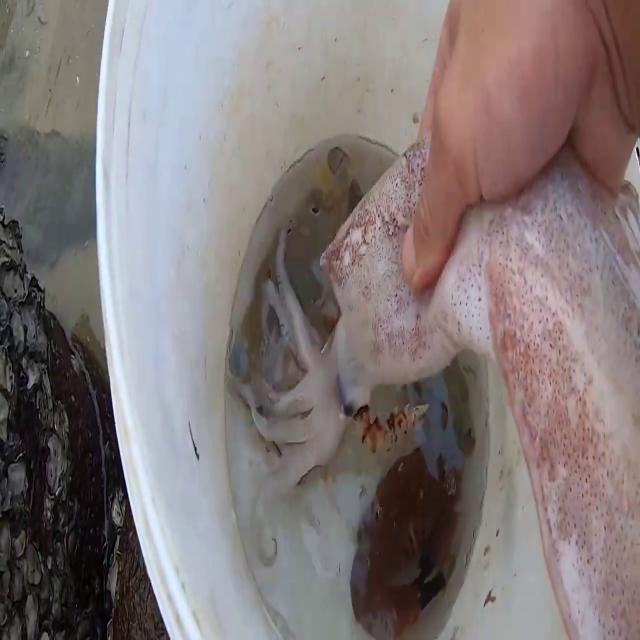squid: (231, 123, 402, 569)
